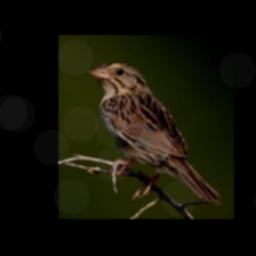Sparrow: (87, 60, 220, 205)
